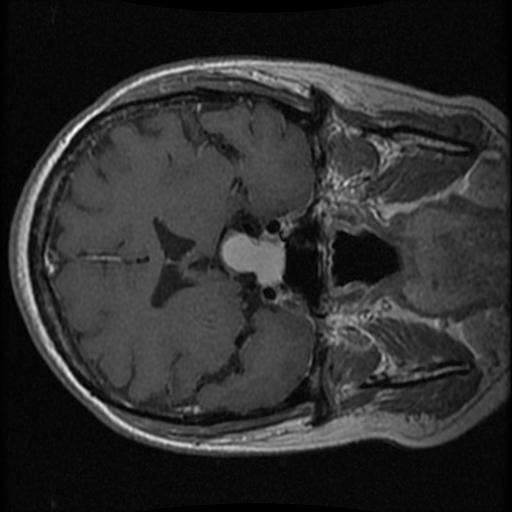pituitary tumour: (219, 231, 285, 285)
